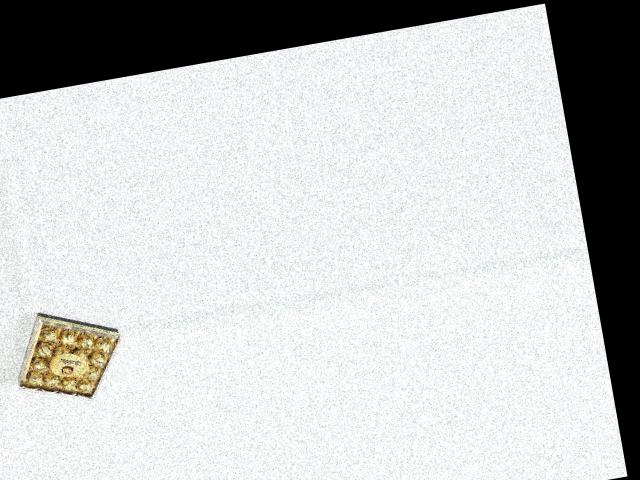chocolate: (4, 297, 132, 412)
